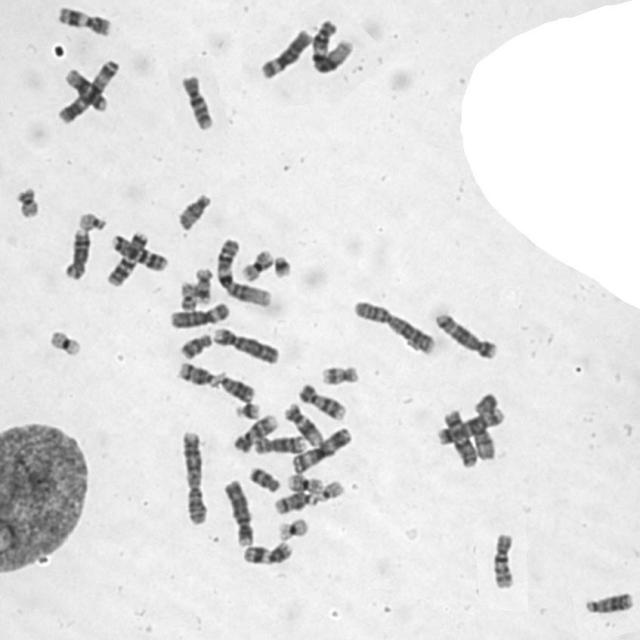A1: (214, 235, 273, 308), (310, 18, 355, 77)
A2: (350, 296, 437, 356), (176, 426, 209, 526)
A3: (55, 57, 122, 125), (288, 424, 353, 474)
B4: (210, 323, 282, 366), (220, 475, 254, 548)
B5: (433, 309, 498, 361), (434, 406, 507, 446)
C10: (178, 70, 216, 133), (488, 529, 518, 591)
C11: (54, 3, 112, 38), (239, 536, 293, 566)
C12: (61, 66, 108, 112), (281, 400, 324, 448)
C6: (257, 26, 313, 80), (167, 300, 230, 330)
C7: (104, 228, 150, 288), (108, 230, 169, 273)
C8: (62, 225, 92, 281), (251, 432, 307, 456)
C9: (296, 380, 348, 422), (230, 411, 280, 454)
D13: (214, 369, 256, 403), (582, 590, 634, 614)
D14: (174, 359, 220, 390), (270, 489, 319, 515)
D15: (174, 190, 212, 232), (471, 417, 498, 463)
E16: (238, 247, 274, 283), (284, 471, 325, 494)
E17: (319, 361, 360, 386), (193, 265, 214, 306)
E18: (246, 463, 282, 494), (176, 331, 213, 361)
F19: (44, 325, 84, 358), (275, 515, 310, 541)
F20: (11, 184, 43, 219), (177, 278, 198, 312)
G21: (270, 252, 294, 280), (232, 399, 262, 420)
G22: (314, 477, 346, 503), (76, 209, 108, 232)
X: (441, 406, 479, 468)
Y: (473, 392, 499, 414)
